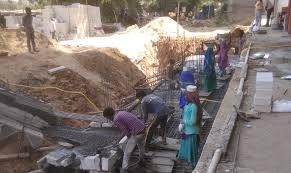unsafe person: (103, 106, 145, 172), (136, 87, 169, 145), (180, 85, 202, 162), (202, 39, 219, 89), (22, 5, 39, 54), (217, 30, 230, 70)
